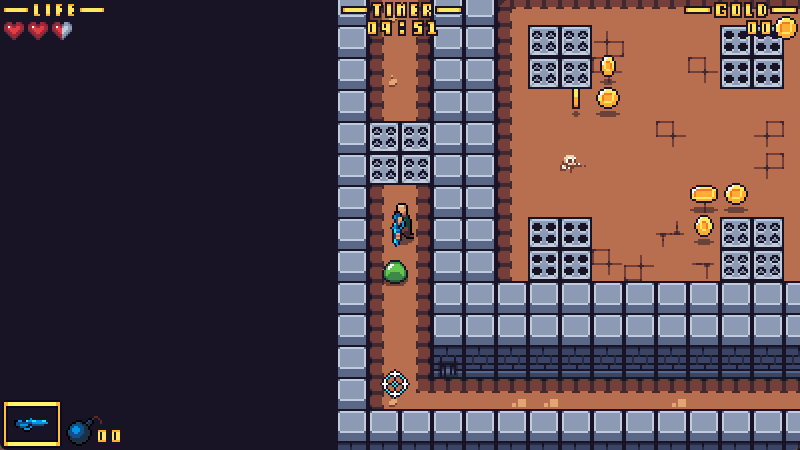aim: (380, 369, 409, 397)
enemy_slug: (382, 258, 408, 284)
gold: (724, 181, 747, 206), (689, 184, 718, 202), (595, 88, 619, 108), (694, 215, 714, 239), (599, 55, 615, 79), (569, 87, 582, 110)
player: (389, 202, 414, 247)
trap_off: (527, 219, 593, 280), (720, 27, 782, 88)
trap_warning: (528, 25, 593, 90), (719, 218, 783, 280), (369, 122, 432, 184)
